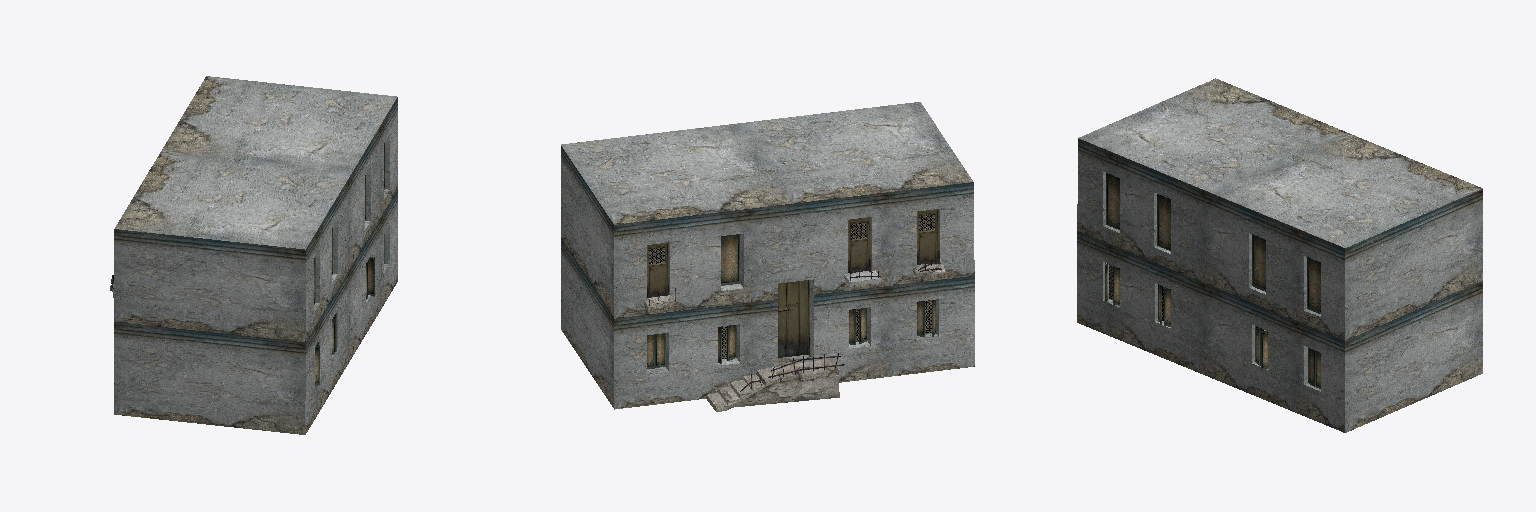
3 renders of one model, left to right at view 1: azimuth 30°, elevation 25°; view 2: azimuth 150°, elevation 25°; view 3: azimuth 270°, elevation 25°, orthographic.
Bounding box in the file's own units: 322 × 164 × 325.
6 materials, 6 textured.